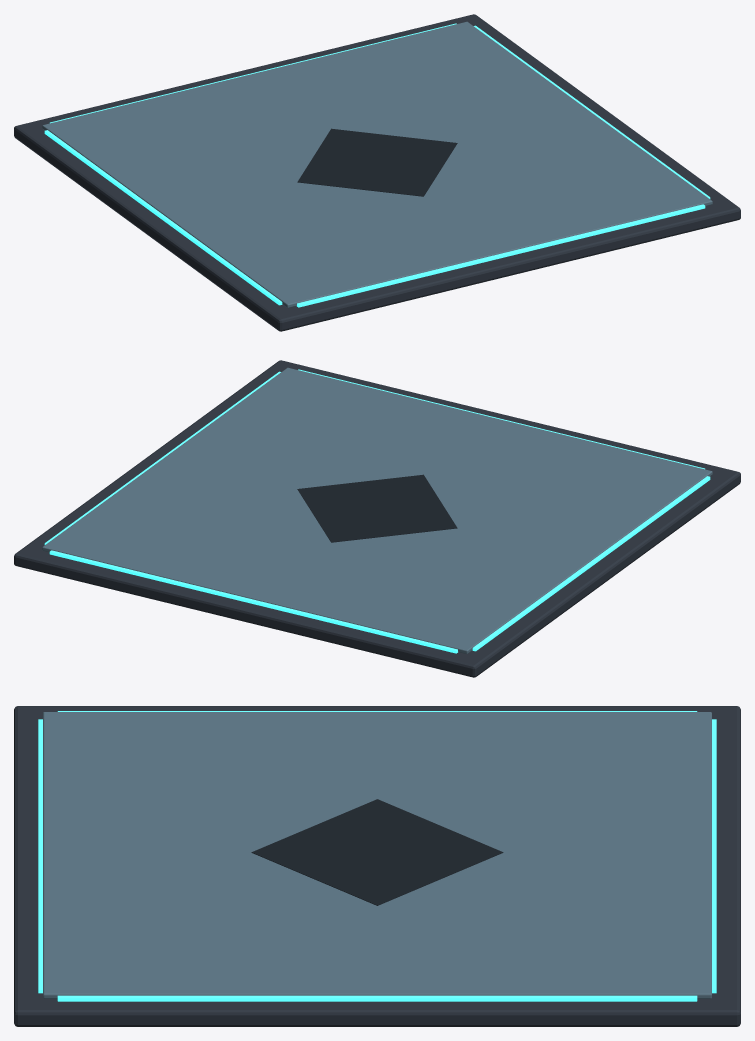
Rendered from PlataformaCheckpoint.fbx.
3 renders of one model, top to bottom at view 1: azimuth 30°, elevation 25°; view 2: azimuth 150°, elevation 25°; view 3: azimuth 270°, elevation 25°, orthographic. The views are drawn at different scales.
Visible parts, largest first — view 1: Checkpoint_Superficie, Checkpoint_Base, Checkpoint_Simbolo, Checkpoint_ContornoLuminoso; view 2: Checkpoint_Superficie, Checkpoint_Base, Checkpoint_Simbolo, Checkpoint_ContornoLuminoso; view 3: Checkpoint_Superficie, Checkpoint_Base, Checkpoint_Simbolo, Checkpoint_ContornoLuminoso.
Boxes of the visible parts, <box> form: Checkpoint_Superficie: <box>42,21,712,307</box>; Checkpoint_Base: <box>14,14,740,331</box>; Checkpoint_Simbolo: <box>297,128,457,196</box>; Checkpoint_ContornoLuminoso: <box>44,23,710,307</box>; Checkpoint_Superficie: <box>42,367,712,653</box>; Checkpoint_Base: <box>14,360,740,677</box>; Checkpoint_Simbolo: <box>297,474,457,542</box>; Checkpoint_ContornoLuminoso: <box>44,369,710,653</box>; Checkpoint_Superficie: <box>43,712,711,998</box>; Checkpoint_Base: <box>14,706,740,1026</box>; Checkpoint_Simbolo: <box>251,799,503,905</box>; Checkpoint_ContornoLuminoso: <box>38,711,716,1001</box>.
Size of the model in its own units: 150 by 5.13 by 150.
